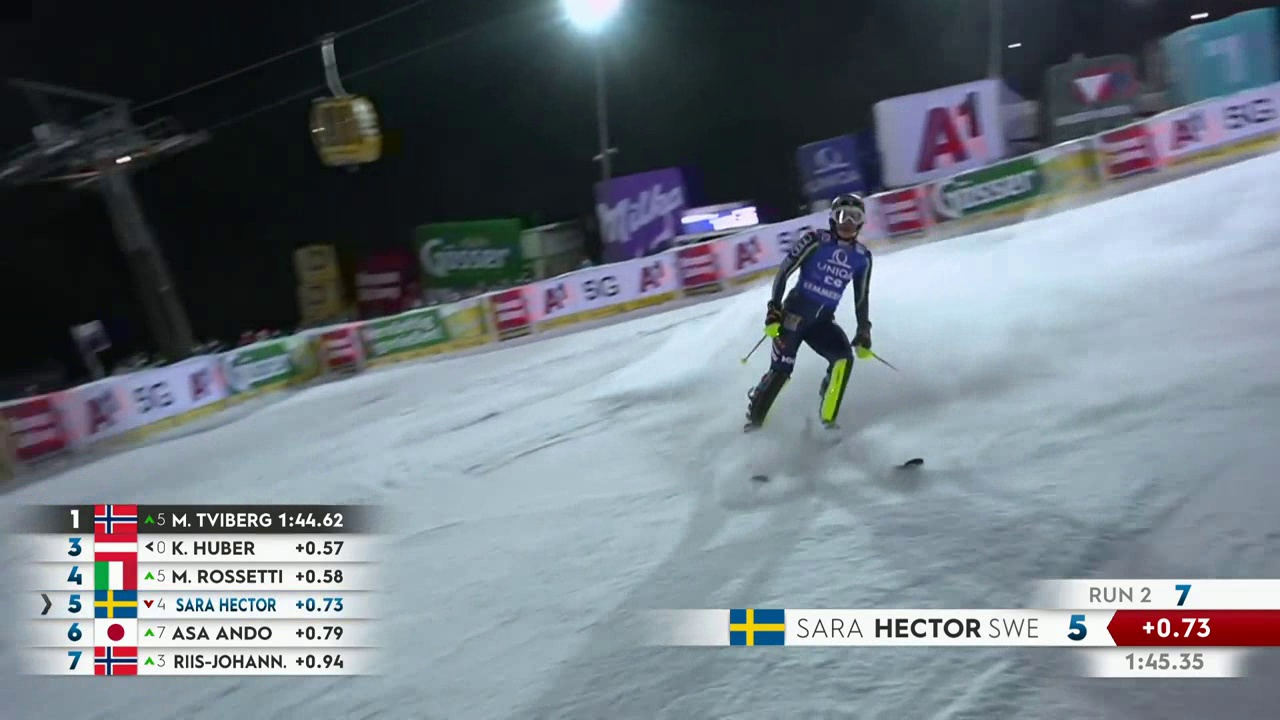a1: (907, 94, 995, 177)
goesser: (418, 229, 521, 285)
milka: (602, 173, 685, 245)
uniqa: (808, 140, 869, 187), (818, 250, 854, 291)
unserheer: (1057, 65, 1135, 129)
